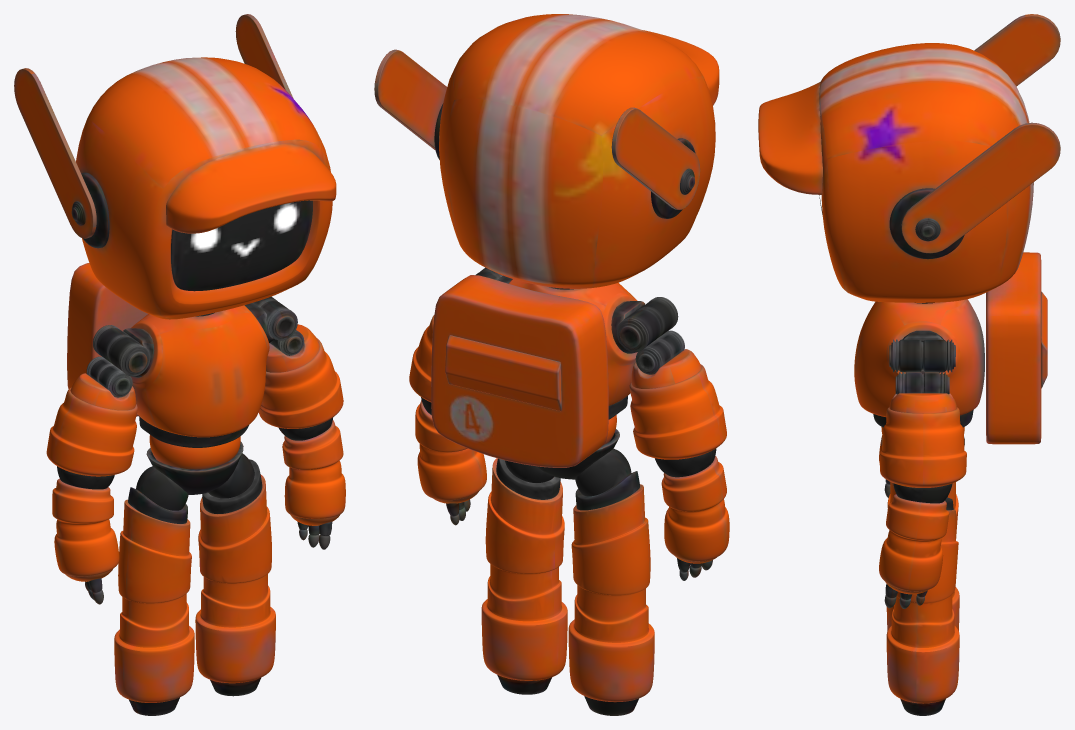
Rendered from mini-robot.glb.
3 renders of one model, left to right at view 1: azimuth 30°, elevation 25°; view 2: azimuth 150°, elevation 25°; view 3: azimuth 270°, elevation 25°, orthographic. The views are drawn at different scales.
Parts seen in each view (by area): view 1: head, legs_high, body, arms_high, arms_high.002, cap, screen, ears, bag, arm_joints, arms_high.003, Cube (+9 smaller); view 2: head, legs_high, bag, arms_high.002, ears, arms_high, bag.001, body, arm_joints, legs_high.001, Cube, arms_high.003 (+7 smaller); view 3: head, ears, bag, legs_high, body, arms_high, cap, arms_high.002, arm_joints, ears_part_1, arms_high.003, arm_joints_2 (+3 smaller).
Boxes of the visible parts, x1,y1,x2,y2 form: head: (76, 57, 332, 319); legs_high: (114, 474, 275, 715); body: (130, 305, 269, 437); arms_high: (46, 338, 343, 476); arms_high.002: (52, 420, 345, 576); cap: (166, 144, 336, 233); screen: (171, 200, 312, 291); ears: (14, 14, 293, 238); bag: (67, 263, 147, 416); arm_joints: (93, 296, 297, 376); arms_high.003: (70, 324, 319, 410); Cube: (136, 453, 254, 510); head: (439, 14, 715, 288); legs_high: (481, 458, 654, 715); bag: (431, 275, 608, 467); arms_high.002: (415, 400, 729, 561); ears: (374, 49, 700, 209); arms_high: (409, 315, 726, 459); bag.001: (445, 335, 561, 411); body: (509, 279, 637, 405); arm_joints: (475, 267, 678, 352); legs_high.001: (496, 458, 639, 510); Cube: (505, 448, 631, 496); arms_high.003: (631, 349, 701, 388); head: (819, 43, 1033, 302); ears: (901, 14, 1060, 253); bag: (986, 252, 1041, 444); legs_high: (886, 482, 959, 715); body: (854, 299, 984, 416); arms_high: (879, 407, 966, 487); cap: (758, 82, 822, 194); arms_high.002: (879, 435, 949, 591); arm_joints: (889, 339, 955, 372); ears_part_1: (889, 188, 964, 259); arms_high.003: (889, 393, 956, 413); arm_joints_2: (895, 372, 949, 394).
Size of the model in its own units: 0.8116 by 1.69 by 0.7407.
2 materials, 2 textured.
